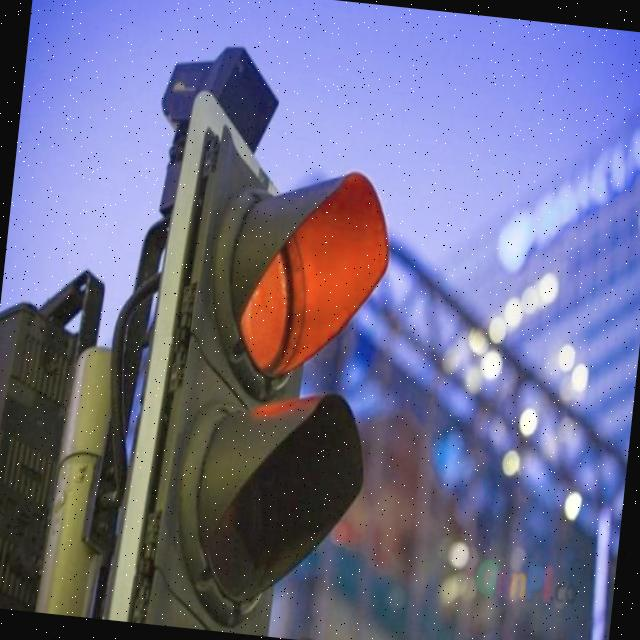Czerwone swiatlo: (144, 101, 338, 638)
